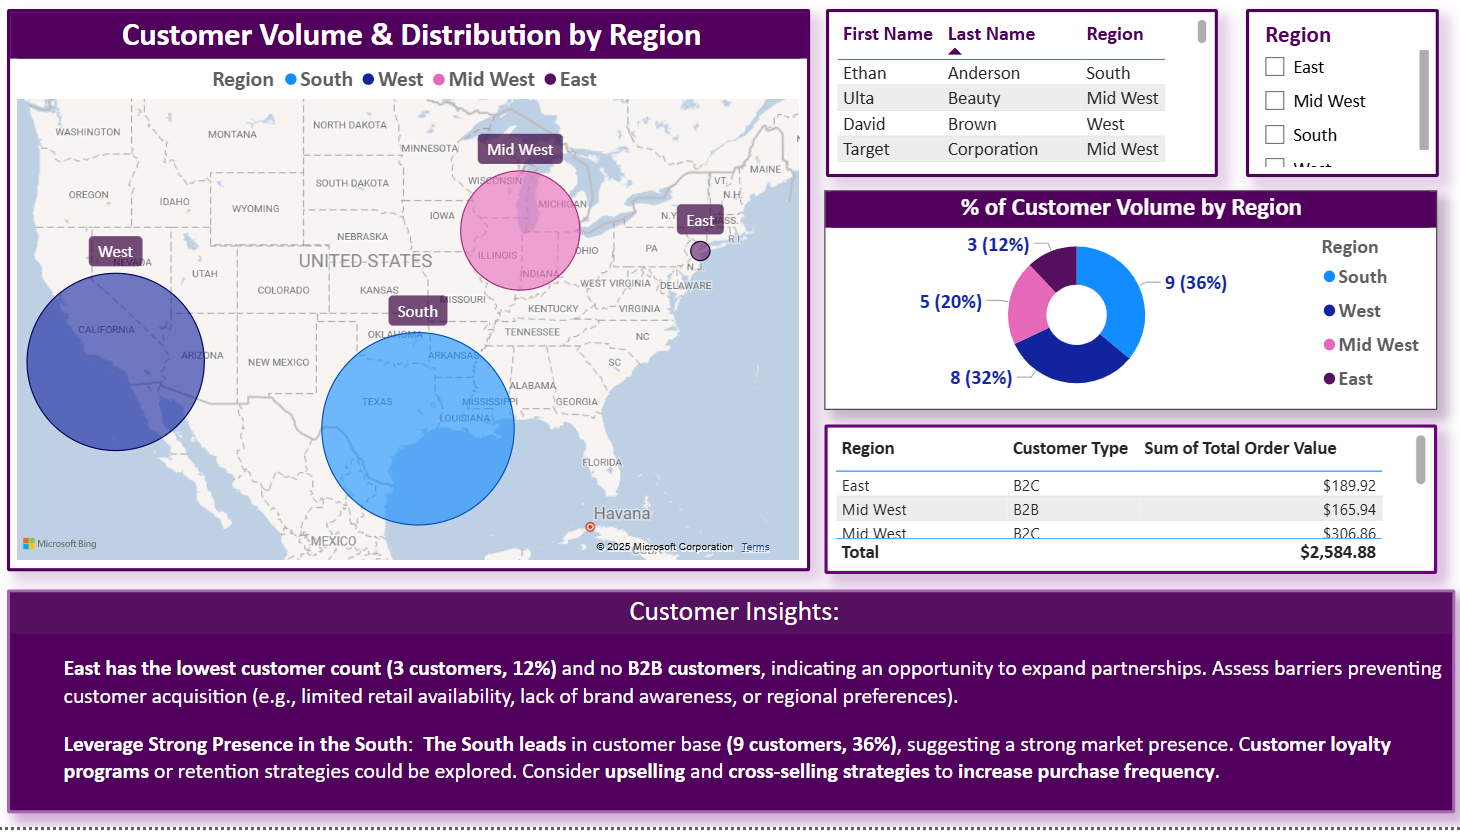

Layout of this report page (visuals, bound fields, positions):
{"tool":"powerbi","page":{"name":"Customer Insights ","canvas":[1280,720],"ordinal":4},"visuals":[{"type":"map","title":"Customer Volume & Distribution by Region","fields":{"Category":["Customers by Region.Region"],"Y":["Min(Customers by Region.Latitude)"],"X":["Min(Customers by Region.Longitude)"],"Size":["Sum(Customers by Region.Region Count)"],"Series":["Customers by Region.Region"]},"box":[10.6,15.2,695.5,484.8],"z":0},{"type":"tableEx","fields":{"Values":["Customers.First Name","Customers.Last Name","Customers by Region.Region"]},"box":[720,14.9,337.6,144.9],"z":1000},{"type":"slicer","fields":{"Values":["Customers by Region.Region"]},"box":[1081.5,14.9,165.8,144.9],"z":2000},{"type":"donutChart","title":"% of Customer Volume  by Region","fields":{"Category":["Customers by Region.Region"],"Y":["Sum(Customers by Region.Region Count)"]},"box":[719.8,172,527.1,188.6],"z":3000},{"type":"textbox","title":"Customer Insights:","box":[15.2,515.2,1247,192.4],"z":4000},{"type":"tableEx","fields":{"Values":["Customers by Region.Region","Consumer Total Spend.Customer Type","Sum(Consumer Total Spend.Total Order Value)"]},"box":[719.7,372.7,527.3,128.8],"z":5000}]}

Visuals, with their boxes in screenshot pixels (x1, y1, x2, y2), scaled from the page's 1280x720 canvas onto the 1460x833 screenshot:
"Customer Volume & Distribution by Region" map: BBox(12, 18, 805, 578)
tableEx - Customers.First Name x Customers.Last Name: BBox(821, 17, 1206, 185)
slicer - Customers by Region.Region: BBox(1234, 17, 1423, 185)
"% of Customer Volume  by Region" donutChart: BBox(821, 199, 1422, 417)
"Customer Insights:" textbox: BBox(17, 596, 1440, 819)
tableEx - Customers by Region.Region x Consumer Total Spend.Customer Type: BBox(821, 431, 1422, 580)
